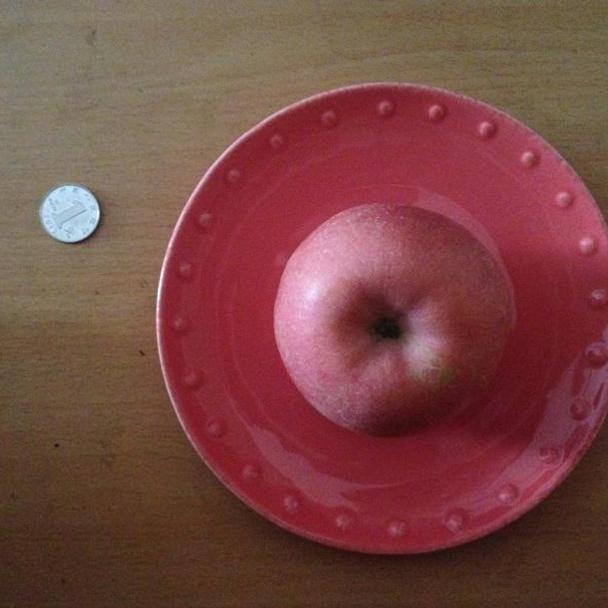apple: (271, 201, 522, 439)
